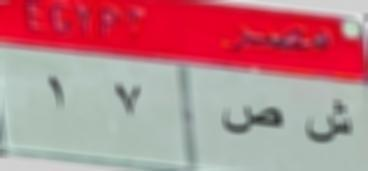1: (36, 74, 76, 118)
7: (108, 79, 149, 124)
saad: (212, 100, 288, 144)
sheen: (304, 99, 358, 148)
